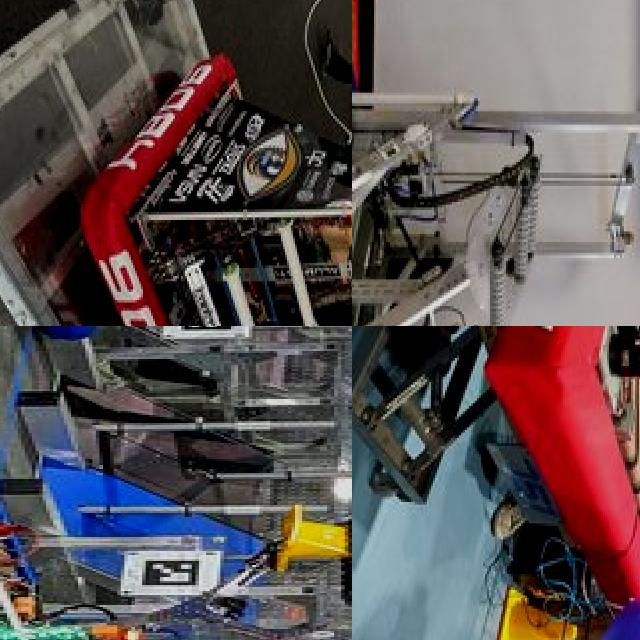FRC-Robots: (352, 0, 640, 326), (27, 46, 352, 326), (0, 425, 352, 640), (435, 326, 640, 631)
